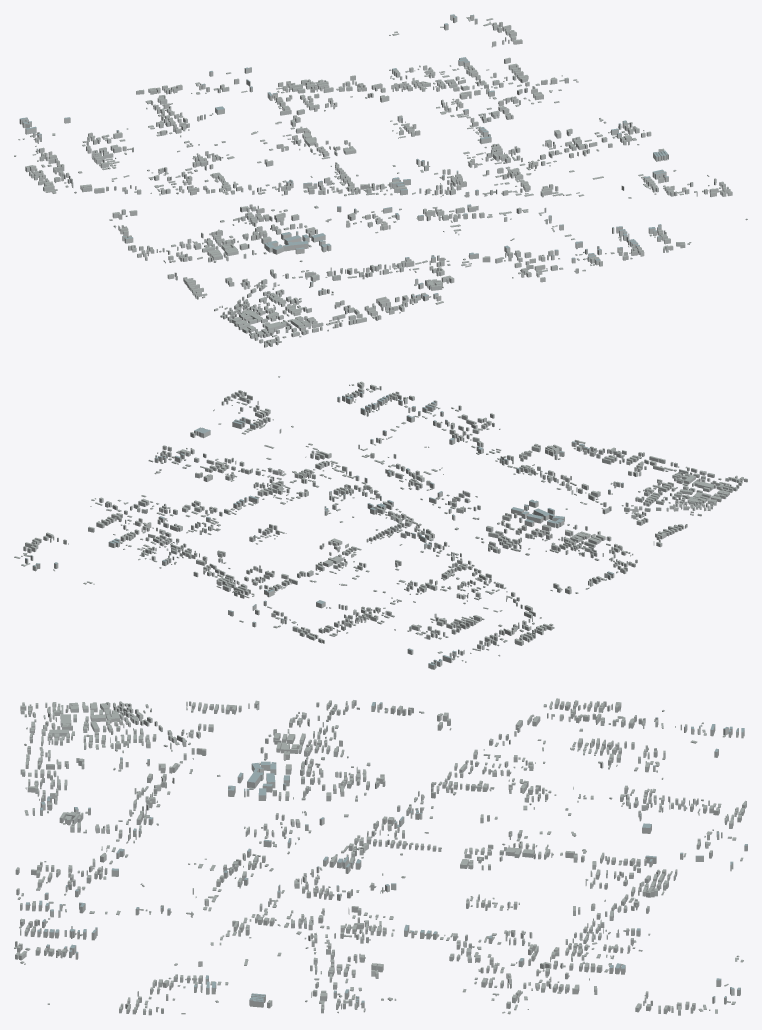
Rendered from far.glb.
3 views of the same model, one above another, from view 1: azimuth 30°, elevation 25°; view 2: azimuth 150°, elevation 25°; view 3: azimuth 270°, elevation 25° (orthographic). The views are drawn at different scales.
Bounding box in the file's own units: 2108 × 24.5 × 2092.
